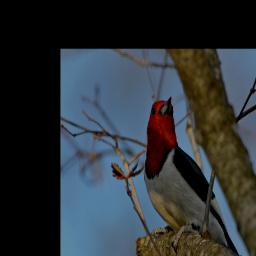Woodpecker: (139, 87, 246, 256)
